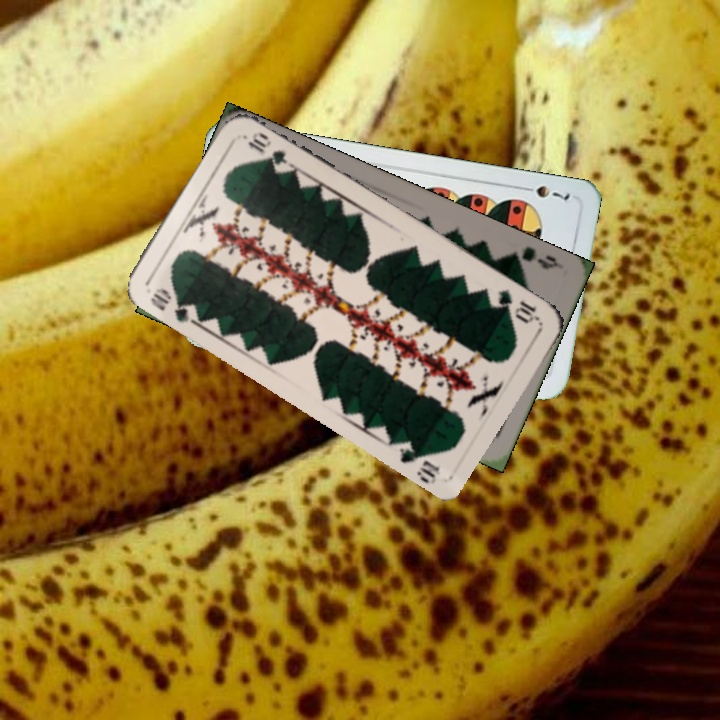G10: (146, 283, 197, 325), (493, 284, 542, 326)
G9: (504, 242, 565, 272)
S7: (516, 181, 572, 204)
